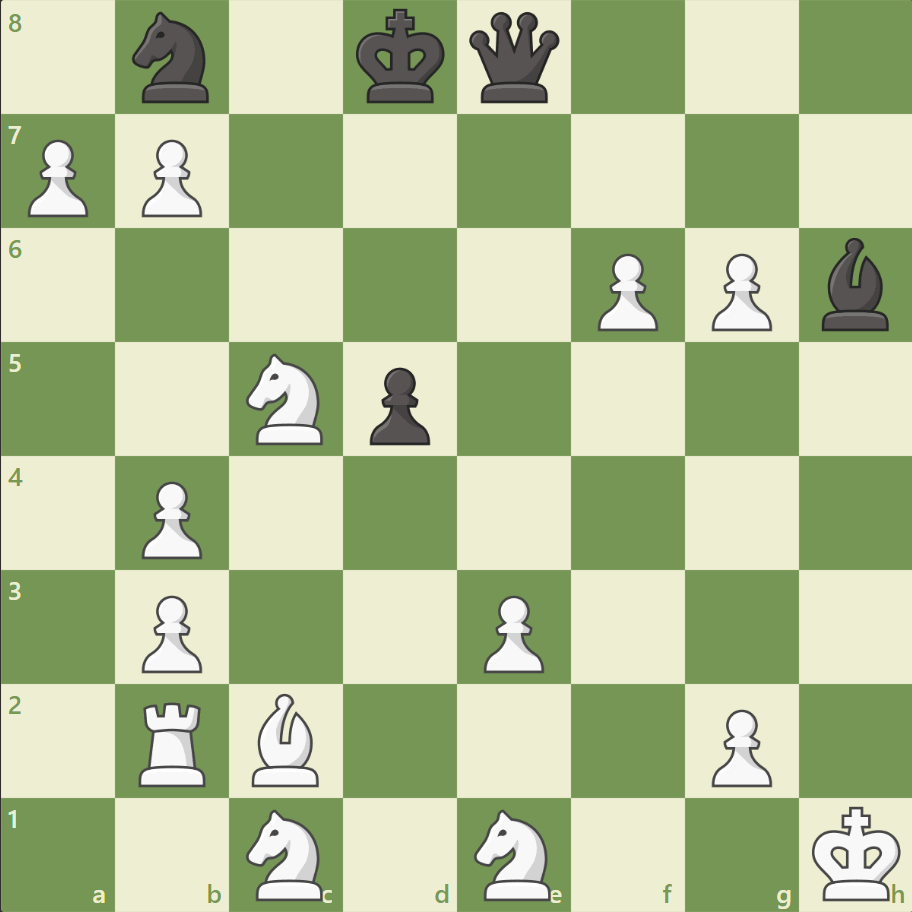B: (244, 687, 328, 790)
K: (806, 798, 906, 906)
N: (238, 348, 335, 450), (238, 802, 335, 904), (465, 802, 562, 904)
P: (20, 132, 95, 223), (133, 132, 208, 223), (701, 246, 776, 337), (133, 473, 208, 564), (133, 586, 208, 677), (474, 586, 549, 677), (701, 700, 776, 791), (588, 246, 662, 337)
R: (133, 693, 215, 790)
b: (812, 233, 896, 336)
k: (351, 4, 451, 112)
n: (124, 7, 222, 110)
p: (361, 359, 435, 450)
q: (464, 9, 563, 108)
